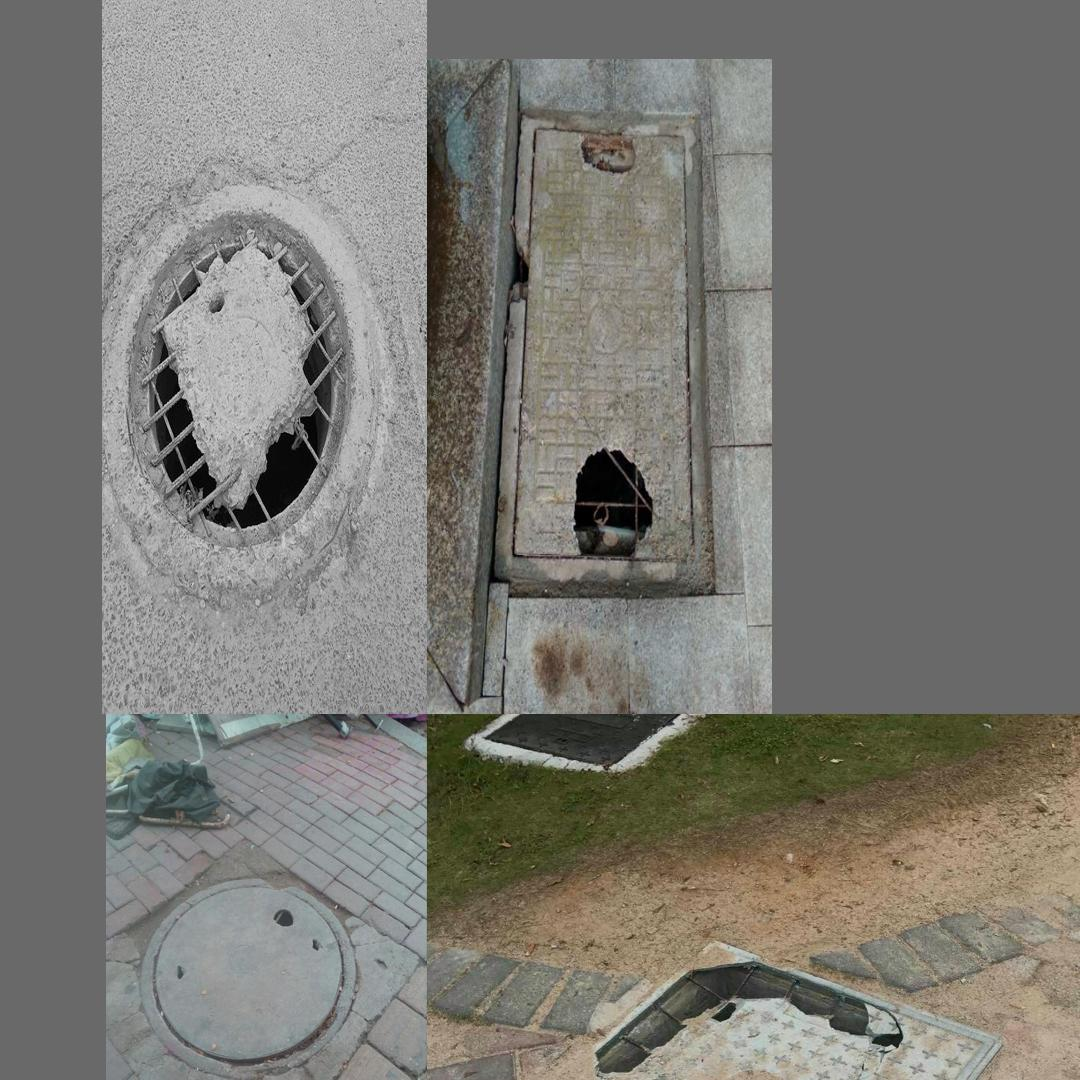broke: (109, 157, 380, 590), (494, 106, 710, 585), (479, 937, 1000, 1080), (137, 877, 357, 1080)
